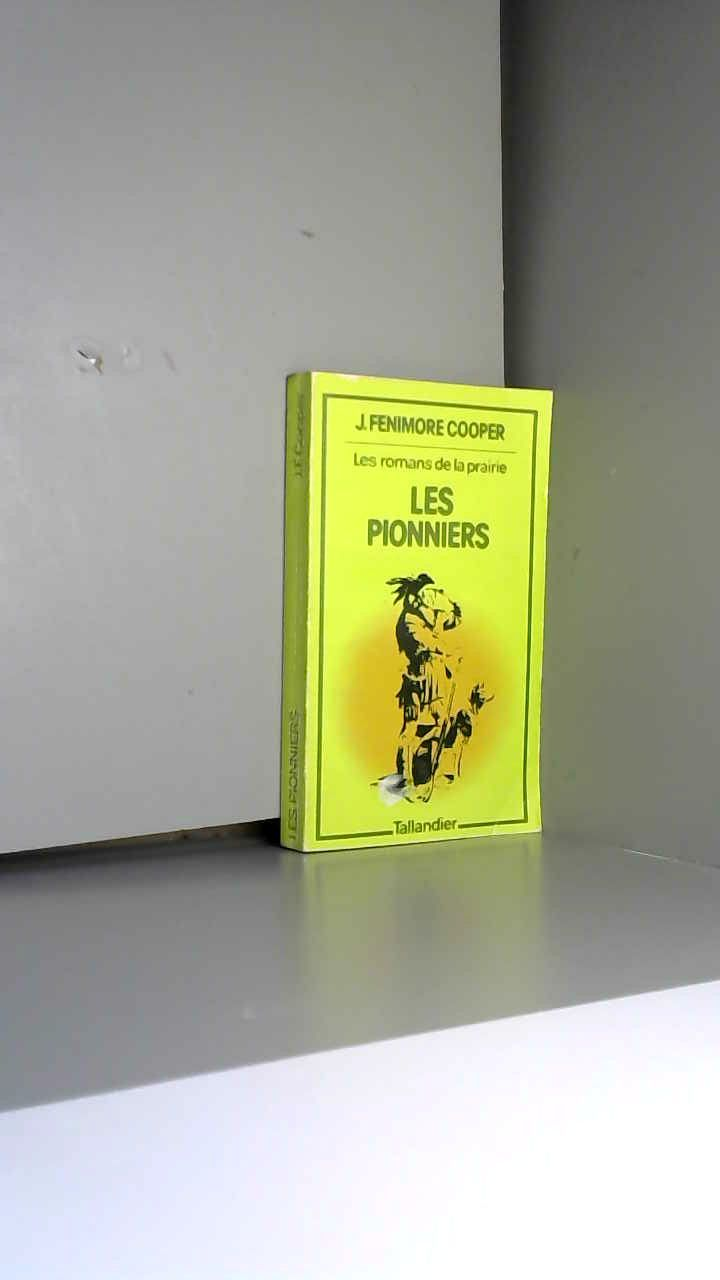book: (251, 333, 592, 892)
